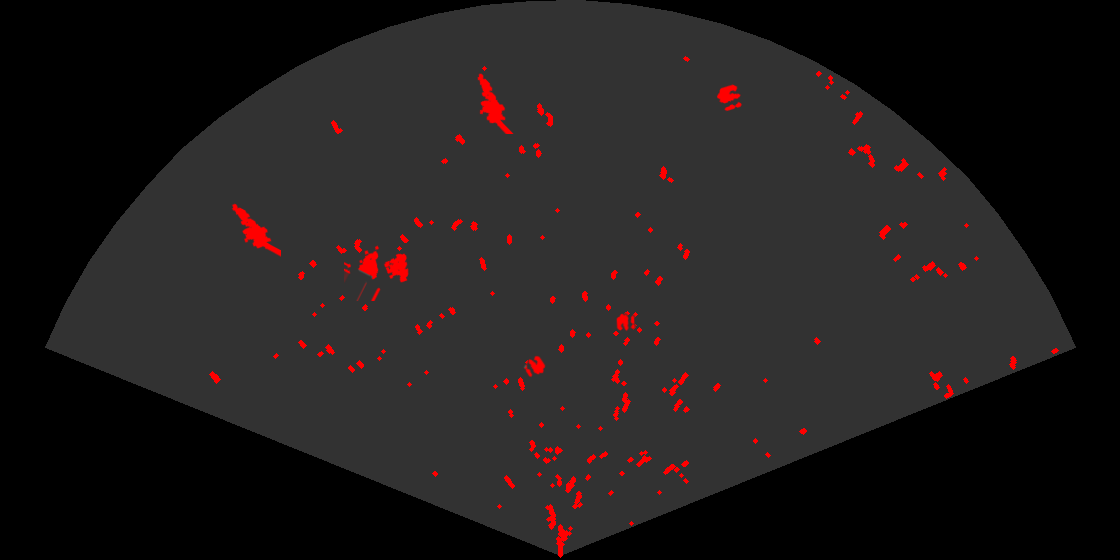ball: (715, 83, 744, 113), (523, 354, 547, 379), (615, 312, 637, 333)
cage: (344, 244, 410, 301)
frogman: (230, 202, 281, 258), (476, 72, 515, 134)
